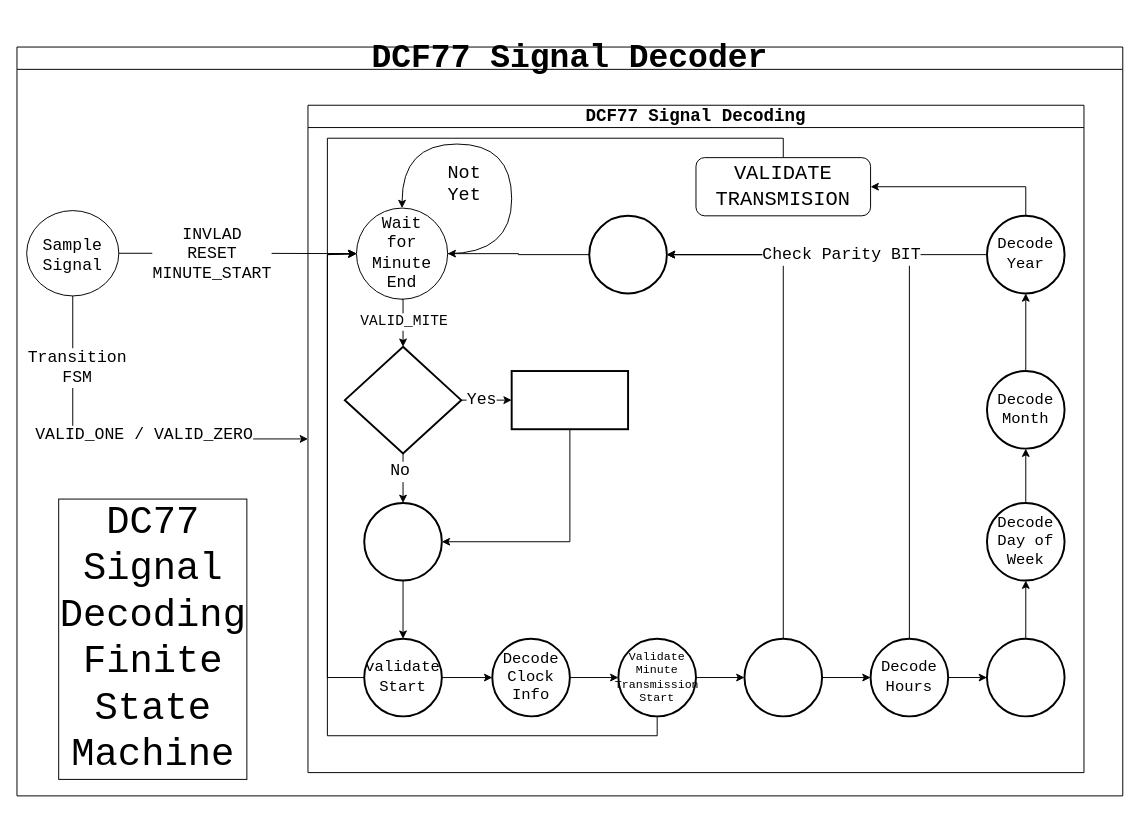
This 1140x813 diagram has some shape labels left out. Each missing label, with the centre of its shape:
"Decode Day of Month" goes at [1025,677].
"Decode Minutes" goes at [783,677].
"Failed Parity Check" goes at [627,254].
"Rest FSM Buffers" goes at [402,541].
"Synchronize Clock" goes at [569,400].
"Valid Transmission" goes at [402,399].
